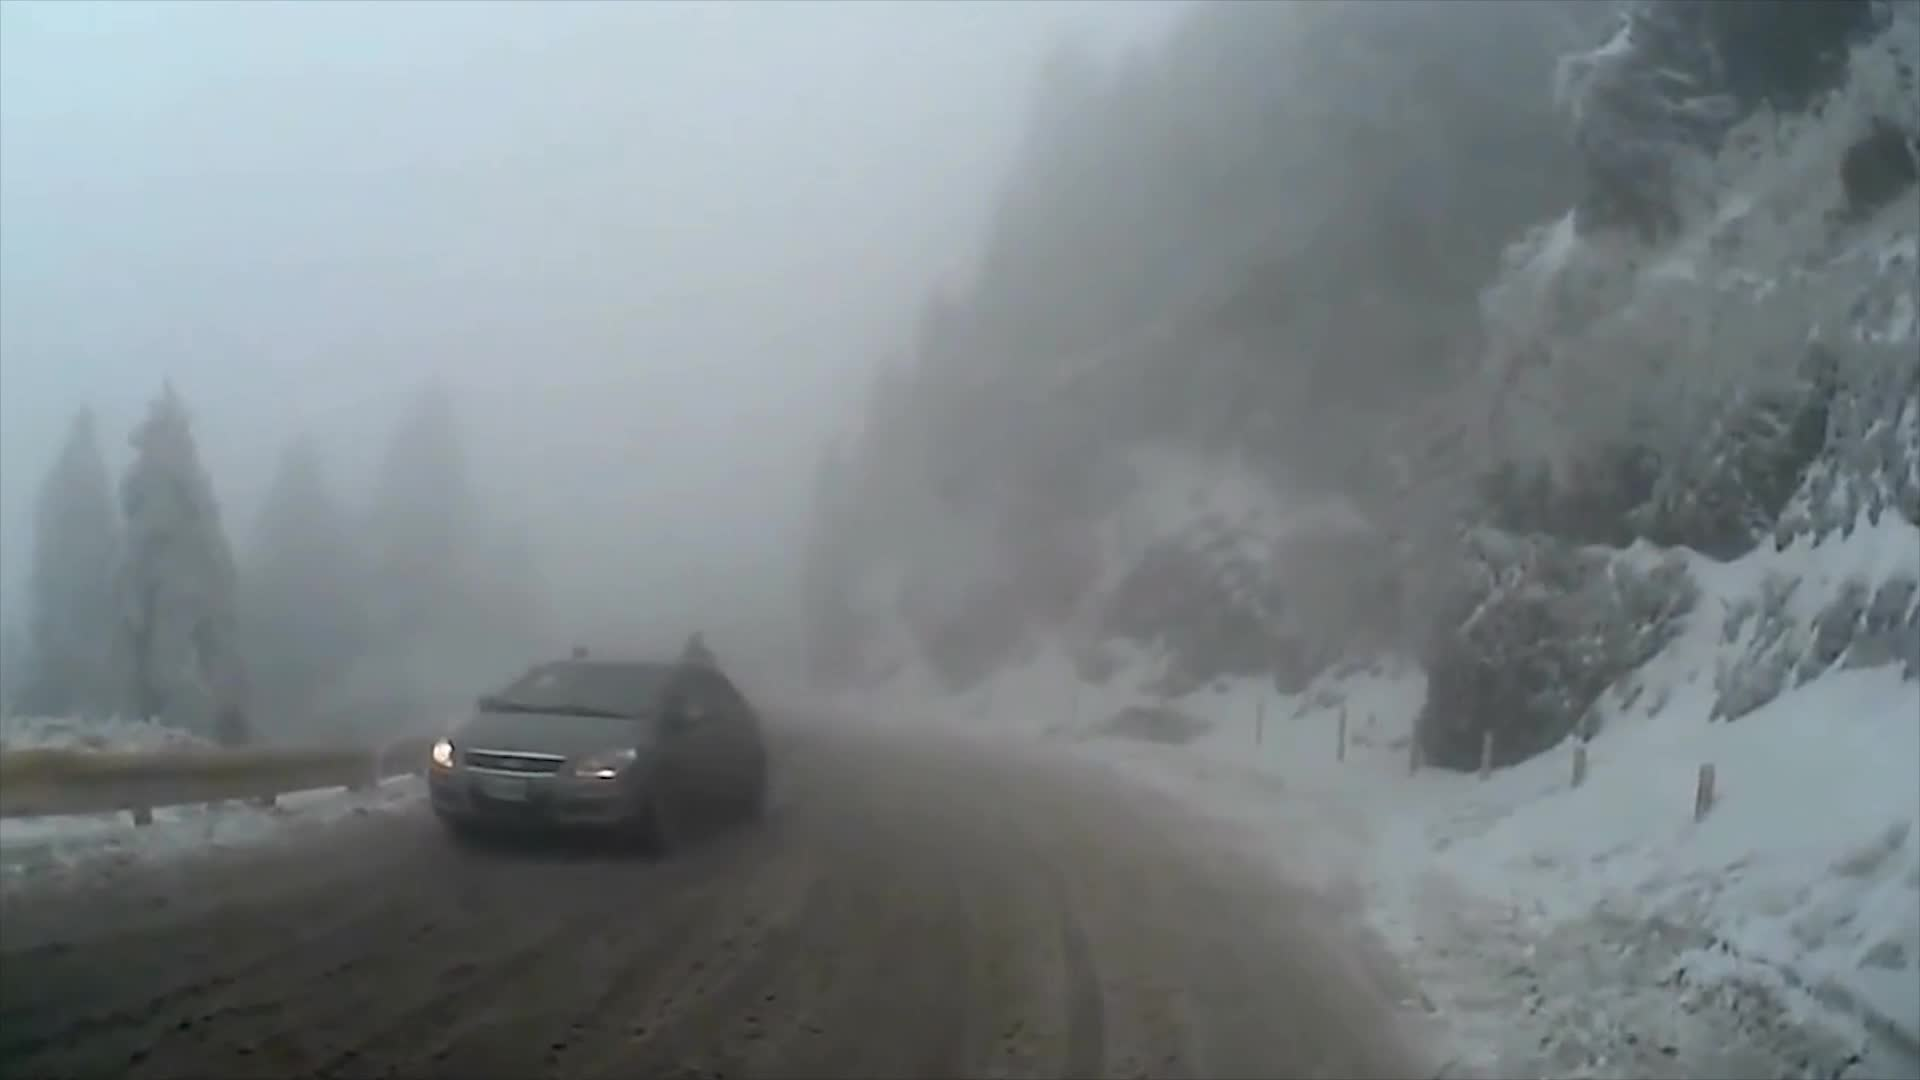vehicle: (434, 653, 767, 852)
